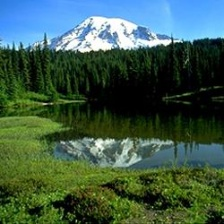neutral: (2, 8, 221, 222)
